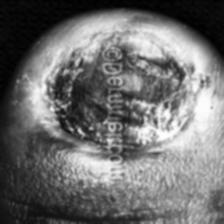Toxin: (50, 30, 200, 156)
